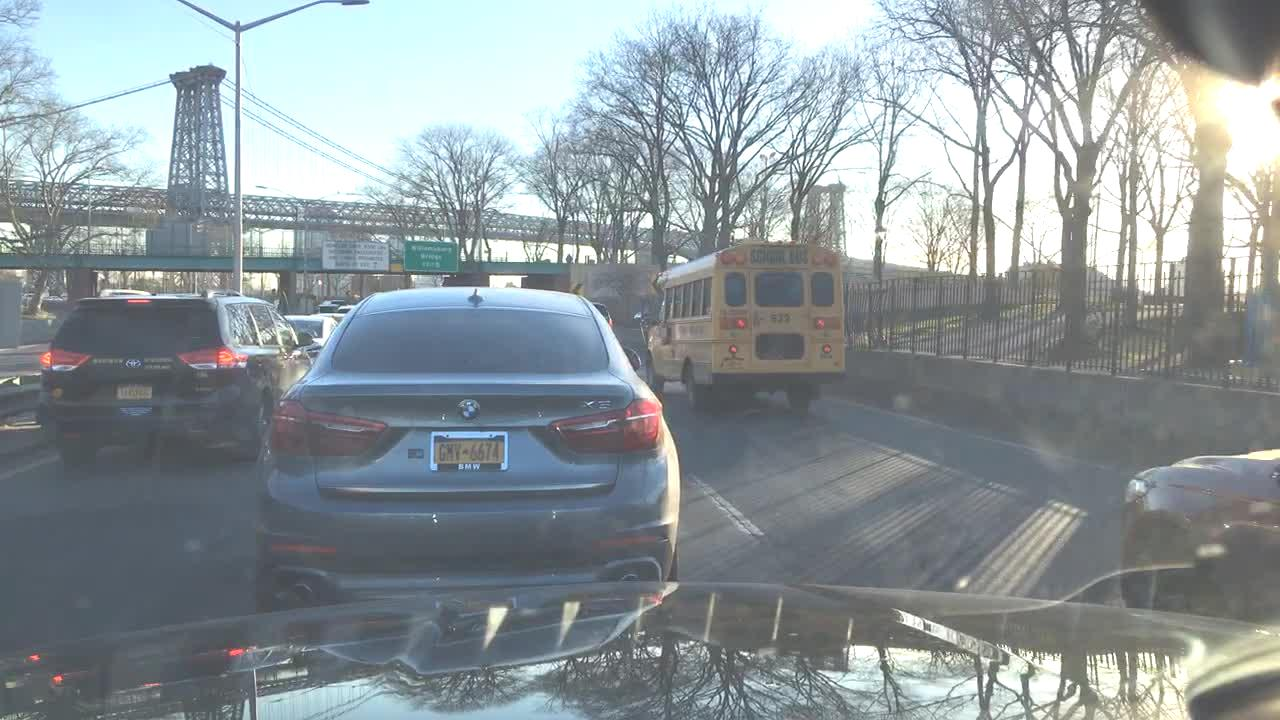Toyota: (124, 355, 149, 375)
bmw: (455, 392, 486, 421)
